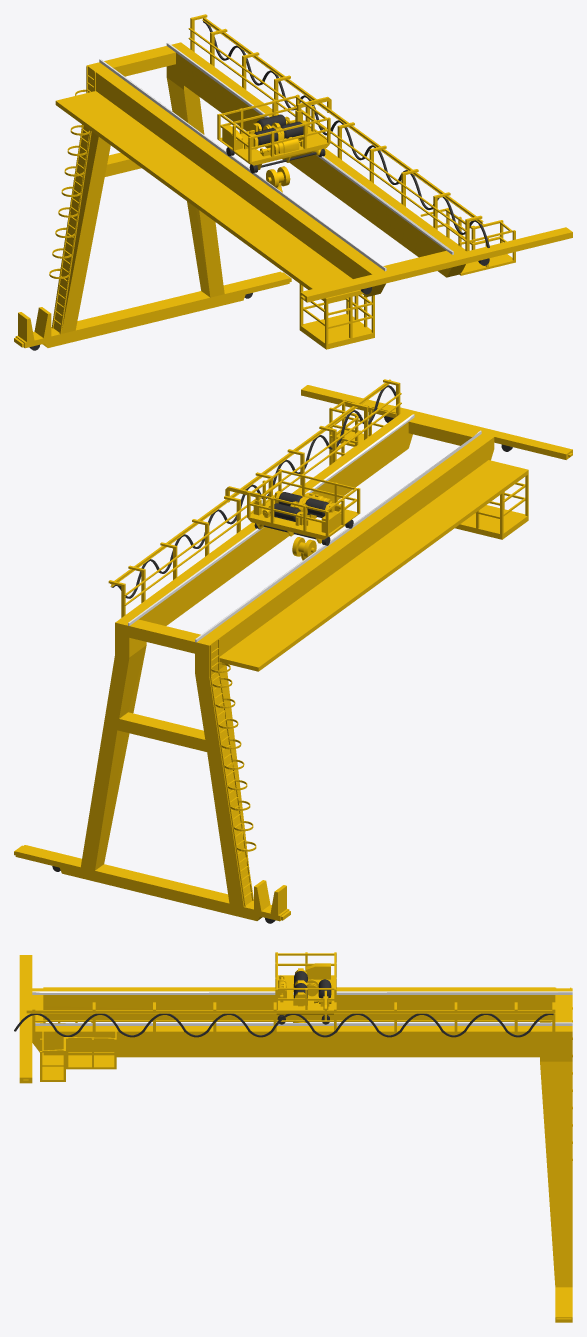
3 renders of one model, top to bottom at view 1: azimuth 30°, elevation 25°; view 2: azimuth 150°, elevation 25°; view 3: azimuth 270°, elevation 25°, orthographic. The views are drawn at different scales.
Visible parts, largest first — view 1: 1_Bay_C_863_Body, 1_Bay_C_863_Head_01, 1_Bay_C_863_Head_Hook_01; view 2: 1_Bay_C_863_Body, 1_Bay_C_863_Head_01; view 3: 1_Bay_C_863_Body, 1_Bay_C_863_Head_01.
Boxes of the visible parts, x1,y1,x2,y2 form: 1_Bay_C_863_Body: (14, 14, 572, 350); 1_Bay_C_863_Head_01: (217, 94, 331, 173); 1_Bay_C_863_Head_Hook_01: (266, 166, 290, 192); 1_Bay_C_863_Body: (14, 379, 572, 923); 1_Bay_C_863_Head_01: (225, 469, 360, 545); 1_Bay_C_863_Body: (14, 955, 572, 1322); 1_Bay_C_863_Head_01: (275, 952, 336, 1024).
Bounding box in the file's own units: 9.43 × 10.27 × 17.87.
